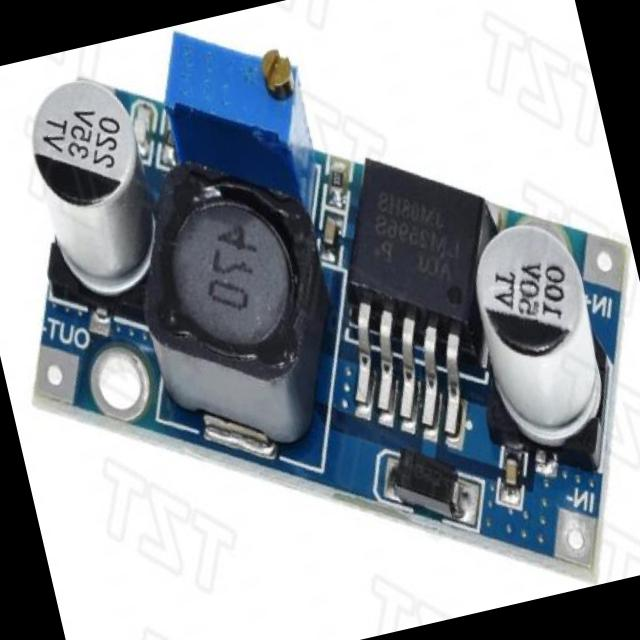IC: (336, 150, 497, 428)
capacitor: (454, 212, 591, 488), (26, 65, 145, 308), (497, 449, 518, 509), (318, 210, 339, 260)
diode: (381, 443, 462, 527)
potentiometer: (166, 27, 305, 207)
resistor: (324, 156, 351, 213)
